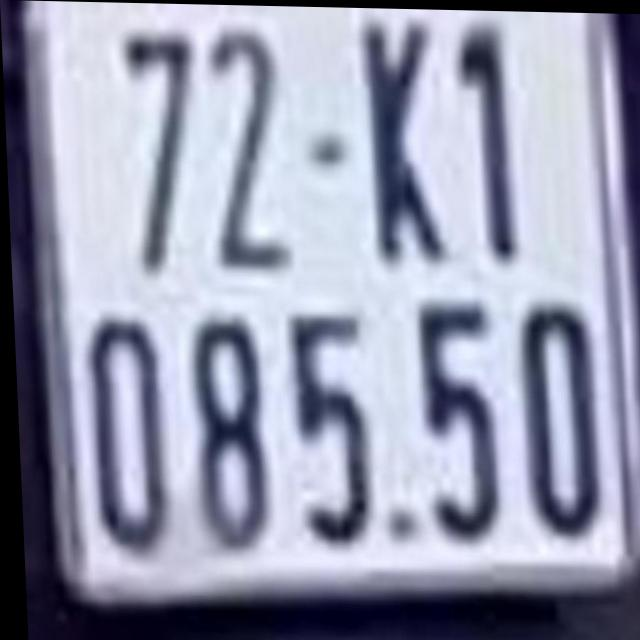0: (517, 298, 598, 539), (86, 310, 163, 547)
1: (452, 21, 516, 254)
2: (208, 23, 291, 268)
5: (283, 307, 372, 545), (413, 293, 498, 537)
7: (123, 30, 197, 274)
8: (187, 314, 263, 548)
K: (357, 16, 444, 256)
